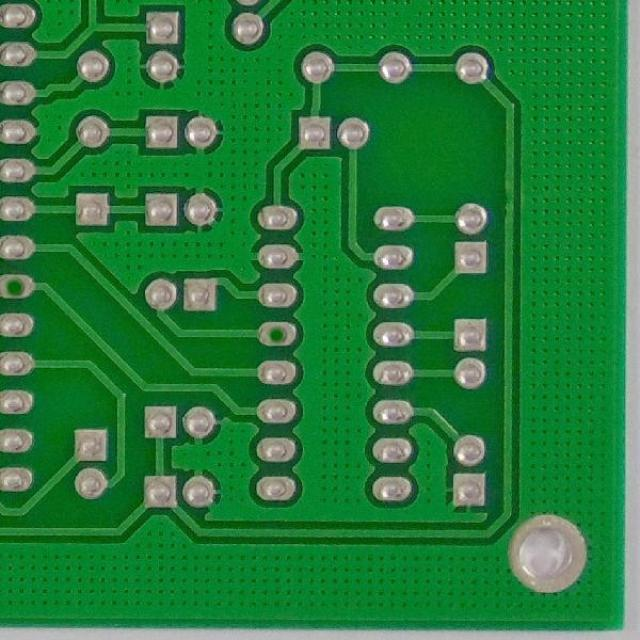Missing_Hole: (254, 316, 298, 351), (1, 274, 32, 302)
